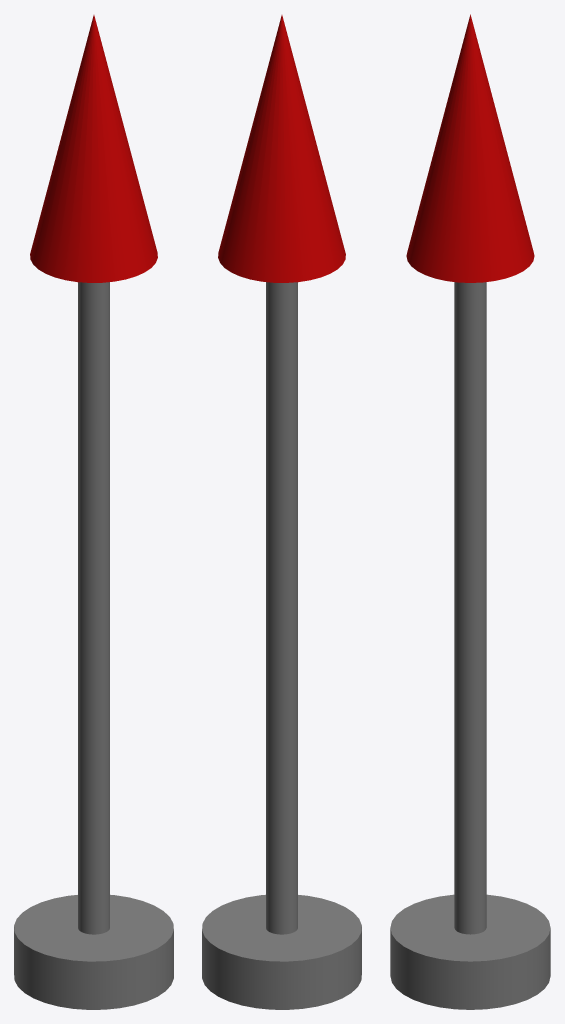
3 renders of one model, left to right at view 1: azimuth 30°, elevation 25°; view 2: azimuth 150°, elevation 25°; view 3: azimuth 270°, elevation 25°, orthographic.
Parts seen in each view (by area): view 1: stem, shade, base; view 2: stem, shade, base; view 3: stem, shade, base.
Boxes of the visible parts, x1,y1,x2,y2 form: stem: [78, 282, 109, 934]; shade: [30, 15, 157, 282]; base: [14, 894, 173, 1009]; stem: [266, 282, 297, 934]; shade: [218, 15, 345, 282]; base: [202, 894, 361, 1009]; stem: [454, 282, 486, 934]; shade: [406, 14, 534, 282]; base: [390, 894, 550, 1009].
Bounding box in the file's own units: 0.15 × 0.994 × 0.15.
